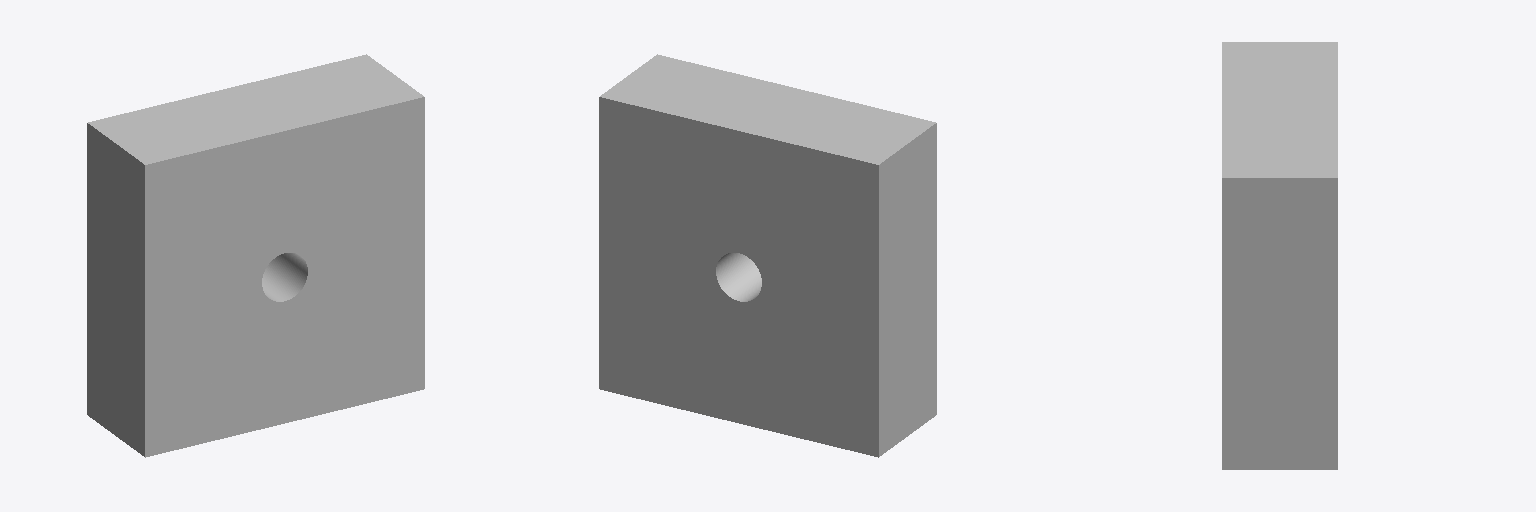
Rendered from factory_round_hole_4mm_subdiv_3x.obj.
3 views of the same model, side by side, from view 1: azimuth 30°, elevation 25°; view 2: azimuth 150°, elevation 25°; view 3: azimuth 270°, elevation 25° (orthographic).
Visible parts, largest first — view 1: mesh1, mesh5, mesh4, mesh0; view 2: mesh2, mesh5, mesh4, mesh0; view 3: mesh3, mesh4.
Part boxes in pixels (bbox=[...]): mesh1: bbox=[145, 97, 424, 457]; mesh5: bbox=[87, 123, 144, 456]; mesh4: bbox=[88, 54, 423, 164]; mesh0: bbox=[262, 253, 307, 301]; mesh2: bbox=[599, 97, 878, 457]; mesh5: bbox=[879, 123, 936, 456]; mesh4: bbox=[600, 54, 935, 164]; mesh0: bbox=[716, 253, 761, 301]; mesh3: bbox=[1222, 178, 1337, 469]; mesh4: bbox=[1222, 42, 1337, 177].
Size of the model in its own units: 0.025 by 0.025 by 0.009.